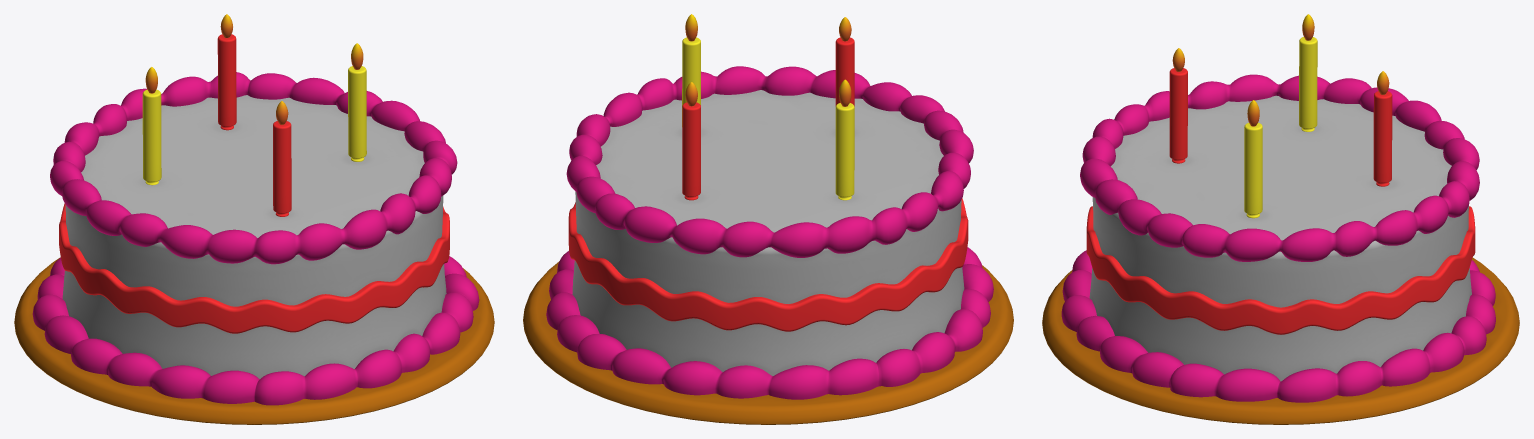
Rendered from cake.glb.
The picture shows the model from 3 angles, left to right: view 1: azimuth 30°, elevation 25°; view 2: azimuth 150°, elevation 25°; view 3: azimuth 270°, elevation 25°; orthographic projection. The views are drawn at different scales.
Visible parts, largest first — view 1: node_id30; view 2: node_id30; view 3: node_id30.
Boxes of the visible parts, box(x1,y1,x2,y2) form: node_id30: box(14, 14, 494, 424); node_id30: box(523, 14, 1013, 424); node_id30: box(1042, 14, 1519, 424).
Size of the model in its own units: 0.512 by 0.3172 by 0.512.
1 material, 1 textured.
